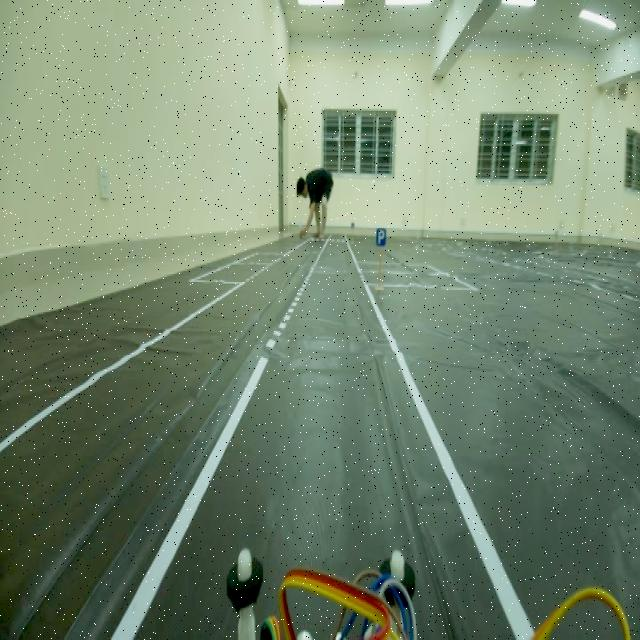parking: (375, 218, 389, 254)
